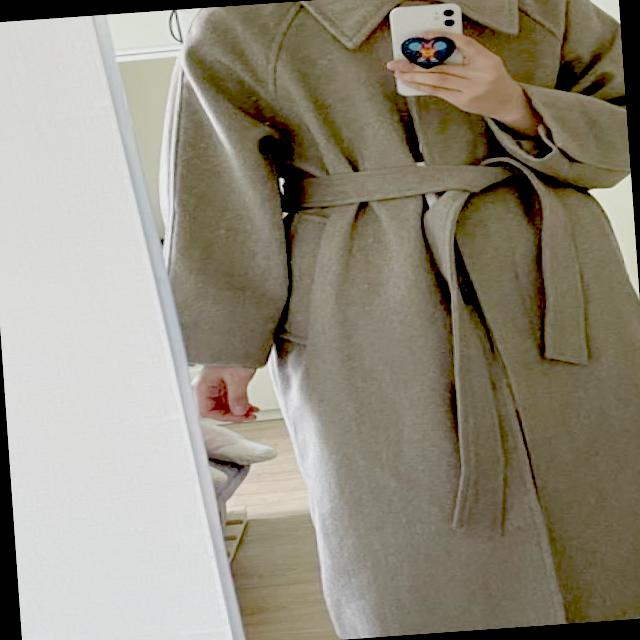coat: (149, 0, 640, 640)
